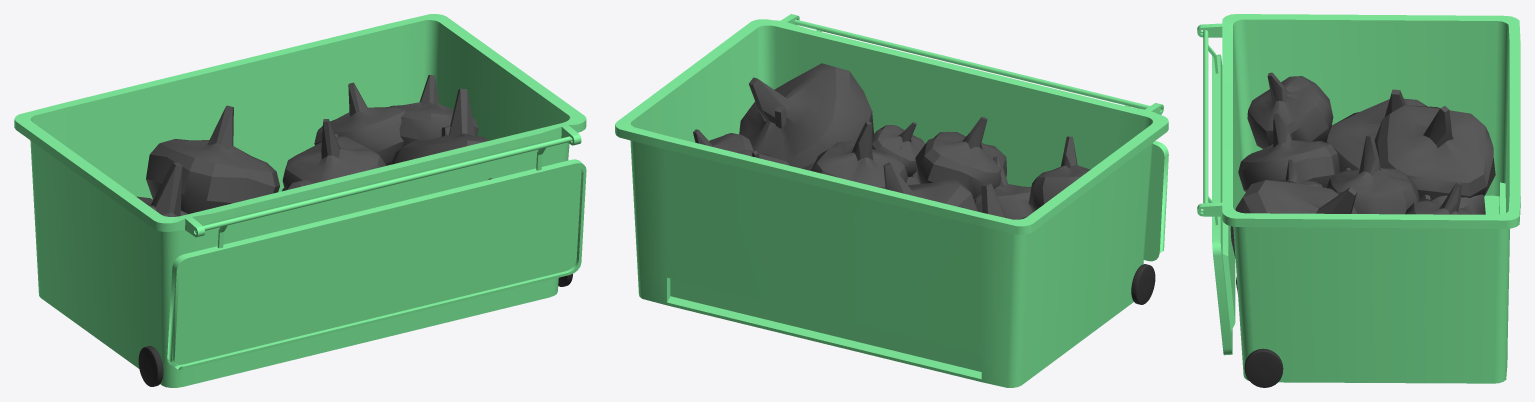
File: Props_Garbage_05.fbx
3 renders of one model, left to right at view 1: azimuth 30°, elevation 25°; view 2: azimuth 150°, elevation 25°; view 3: azimuth 270°, elevation 25°, orthographic. The views are drawn at different scales.
Visible parts, largest first — view 1: Props_Garbage_05; view 2: Props_Garbage_05; view 3: Props_Garbage_05.
Boxes of the visible parts, x1,y1,x2,y2 form: Props_Garbage_05: (14, 14, 586, 387); Props_Garbage_05: (615, 14, 1168, 387); Props_Garbage_05: (1197, 14, 1520, 387).
Bounding box in the file's own units: 300 × 120 × 200.
